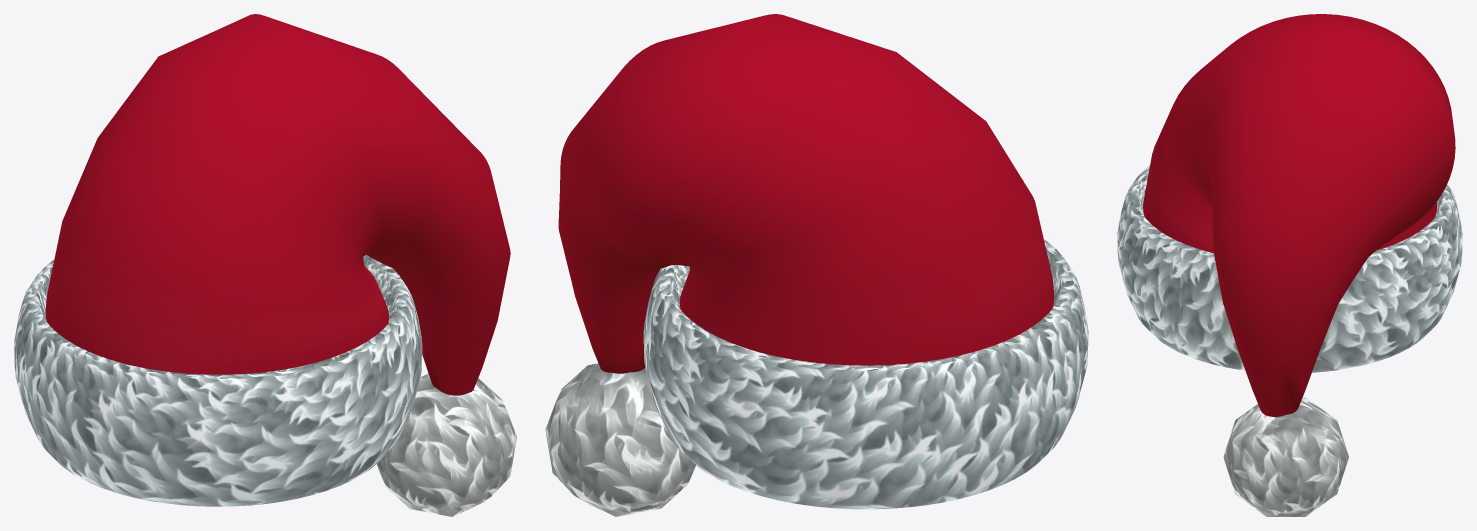
File: santa_hat.glb
3 views of the same model, side by side, from view 1: azimuth 30°, elevation 25°; view 2: azimuth 150°, elevation 25°; view 3: azimuth 270°, elevation 25° (orthographic). The views are drawn at different scales.
Parts seen in each view (by area): view 1: Circle_0, Circle.001_1, Icosphere_2; view 2: Circle_0, Circle.001_1, Icosphere_2; view 3: Circle_0, Circle.001_1, Icosphere_2.
Part boxes in pixels (x1=…): Circle_0: x1=45, y1=14, x2=510, y2=395; Circle.001_1: x1=14, y1=254, x2=422, y2=506; Icosphere_2: x1=376, y1=373, x2=516, y2=516; Circle_0: x1=558, y1=14, x2=1054, y2=373; Circle.001_1: x1=643, y1=239, x2=1088, y2=509; Icosphere_2: x1=545, y1=363, x2=695, y2=516; Circle_0: x1=1143, y1=14, x2=1455, y2=416; Circle.001_1: x1=1117, y1=165, x2=1462, y2=372; Icosphere_2: x1=1223, y1=397, x2=1348, y2=516.
Bounding box in the file's own units: 3.07 × 3.15 × 2.35.
Materials: 3 (3 with a texture image).
